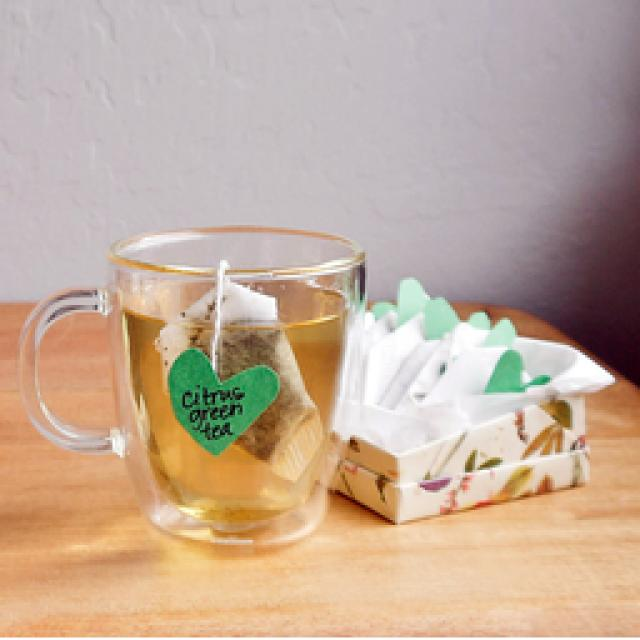tea-bags: (156, 281, 325, 481), (366, 279, 551, 415)
